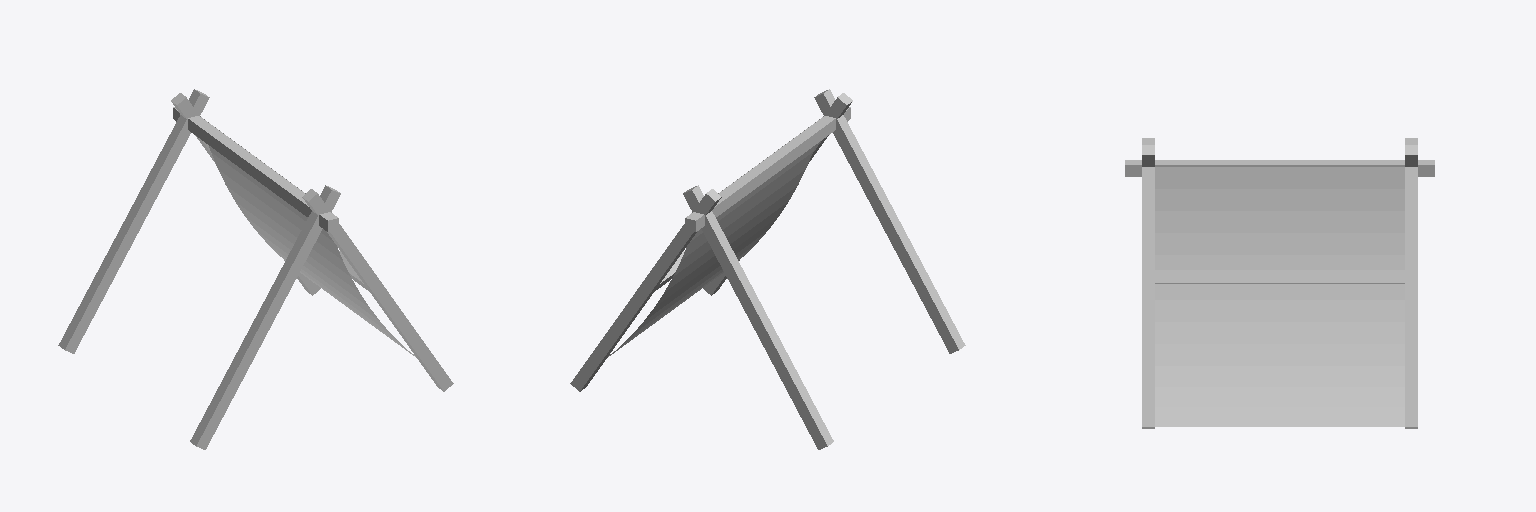
File: tentHalf.obj
The picture shows the model from 3 angles: view 1: azimuth 30°, elevation 25°; view 2: azimuth 150°, elevation 25°; view 3: azimuth 270°, elevation 25°; orthographic projection.
Parts seen in each view (by area): view 1: tentHalf; view 2: tentHalf; view 3: tentHalf.
Part boxes in pixels (x1,y1,x2,y2): tentHalf: (58, 89, 453, 449); tentHalf: (570, 89, 965, 449); tentHalf: (1125, 138, 1434, 428).
Bounding box in the file's own units: 0.5392 × 0.4598 × 0.5623.